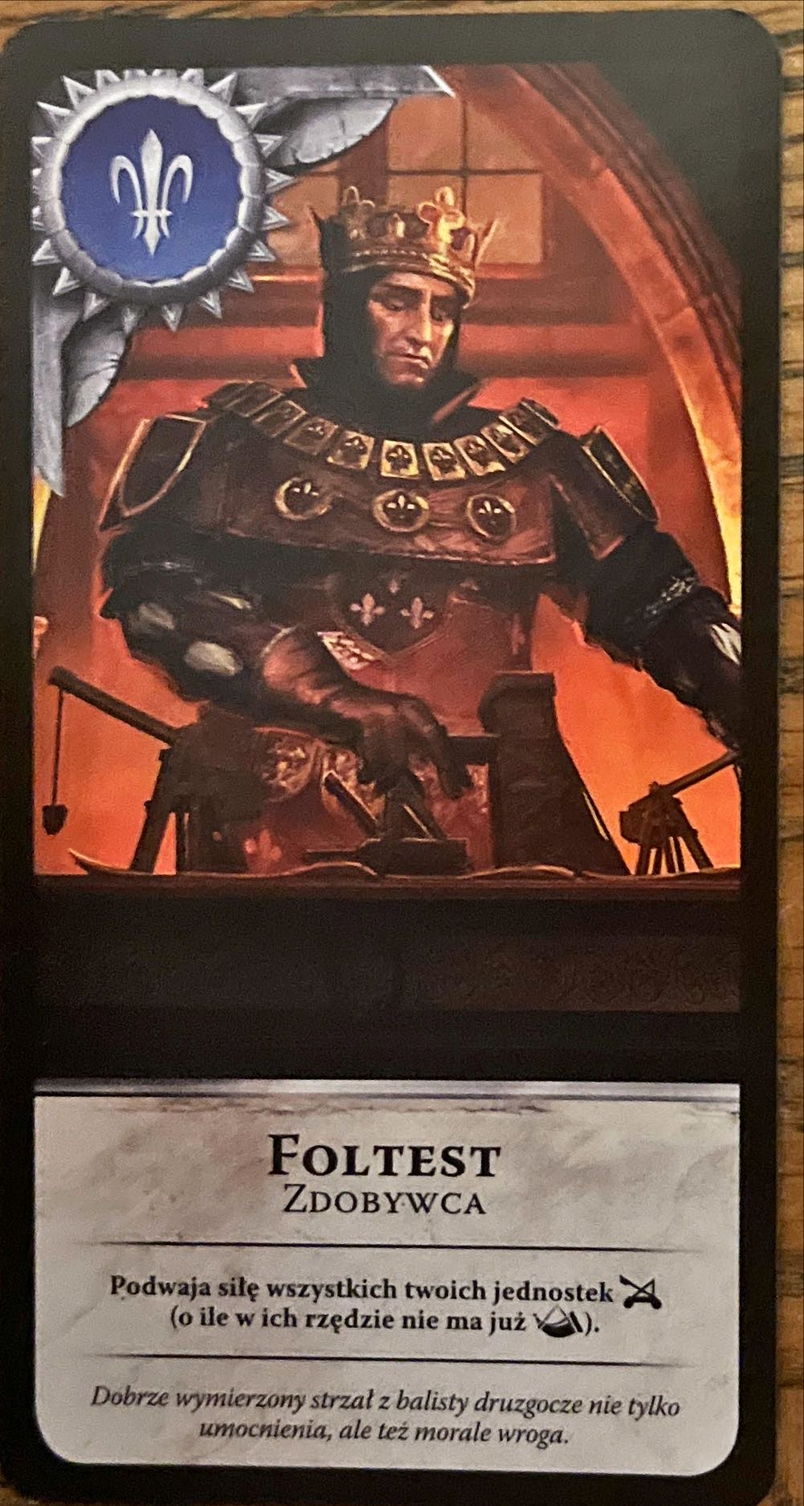foltest zdobywca: (3, 21, 777, 1506)
